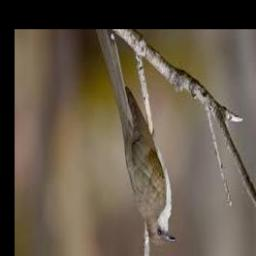Cuckoo: (97, 29, 177, 245)
